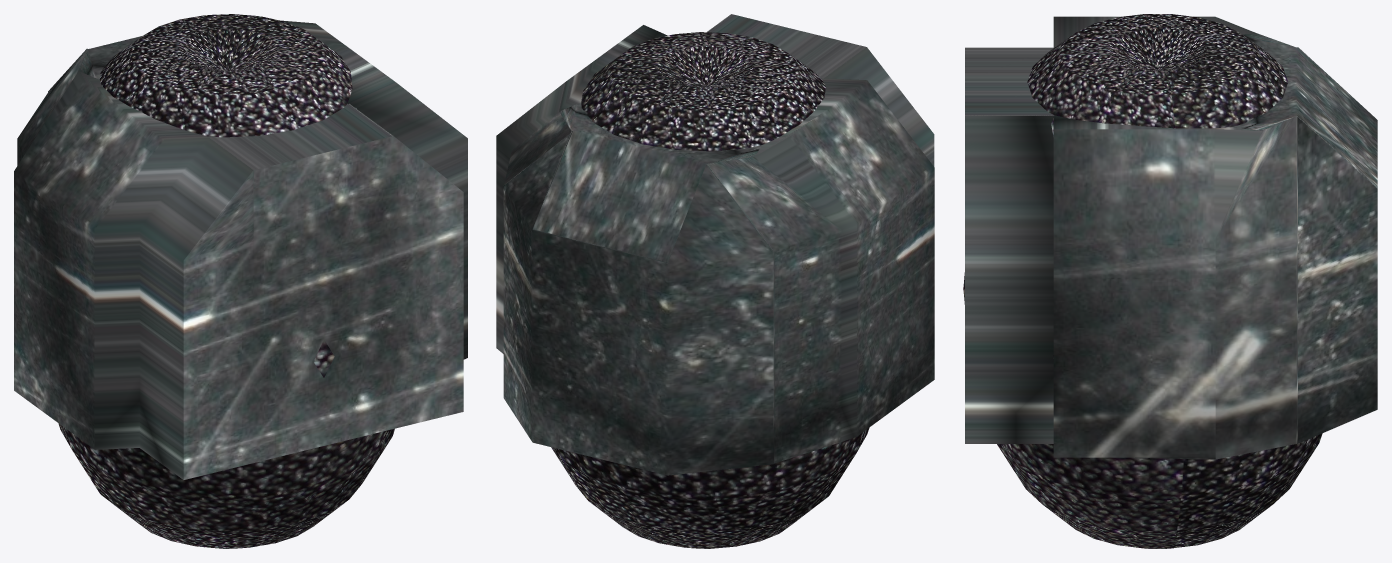
File: torso.gltf
3 views of the same model, side by side, from view 1: azimuth 30°, elevation 25°; view 2: azimuth 150°, elevation 25°; view 3: azimuth 270°, elevation 25° (orthographic). The views are drawn at different scales.
Visible parts, largest first — view 1: armor, body; view 2: armor, body; view 3: armor, body.
Boxes of the visible parts, <box> form: armor: <box>14,20,467,479</box>; body: <box>58,14,394,548</box>; armor: <box>496,14,934,475</box>; body: <box>551,32,869,548</box>; armor: <box>965,16,1377,459</box>; body: <box>963,14,1322,548</box>.
Size of the model in its own units: 2.66 by 3.3 by 2.56.
2 materials, 2 textured.
